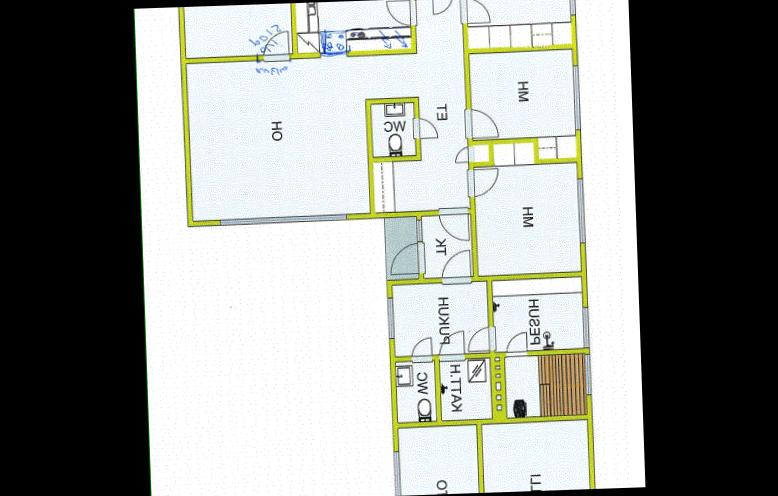door: (386, 241, 426, 276), (438, 248, 470, 288), (437, 205, 470, 243), (460, 109, 499, 140), (257, 28, 292, 62), (466, 166, 498, 200), (435, 330, 465, 363), (383, 0, 416, 28), (456, 0, 491, 25), (463, 326, 495, 352), (408, 115, 439, 141), (502, 330, 528, 359), (408, 334, 432, 365), (452, 146, 474, 166), (428, 0, 454, 15)
window: (214, 211, 351, 228), (574, 174, 587, 250), (569, 60, 582, 134), (580, 350, 595, 398), (389, 445, 402, 496), (384, 296, 398, 342), (580, 302, 590, 352), (414, 218, 424, 246), (564, 0, 576, 21)
